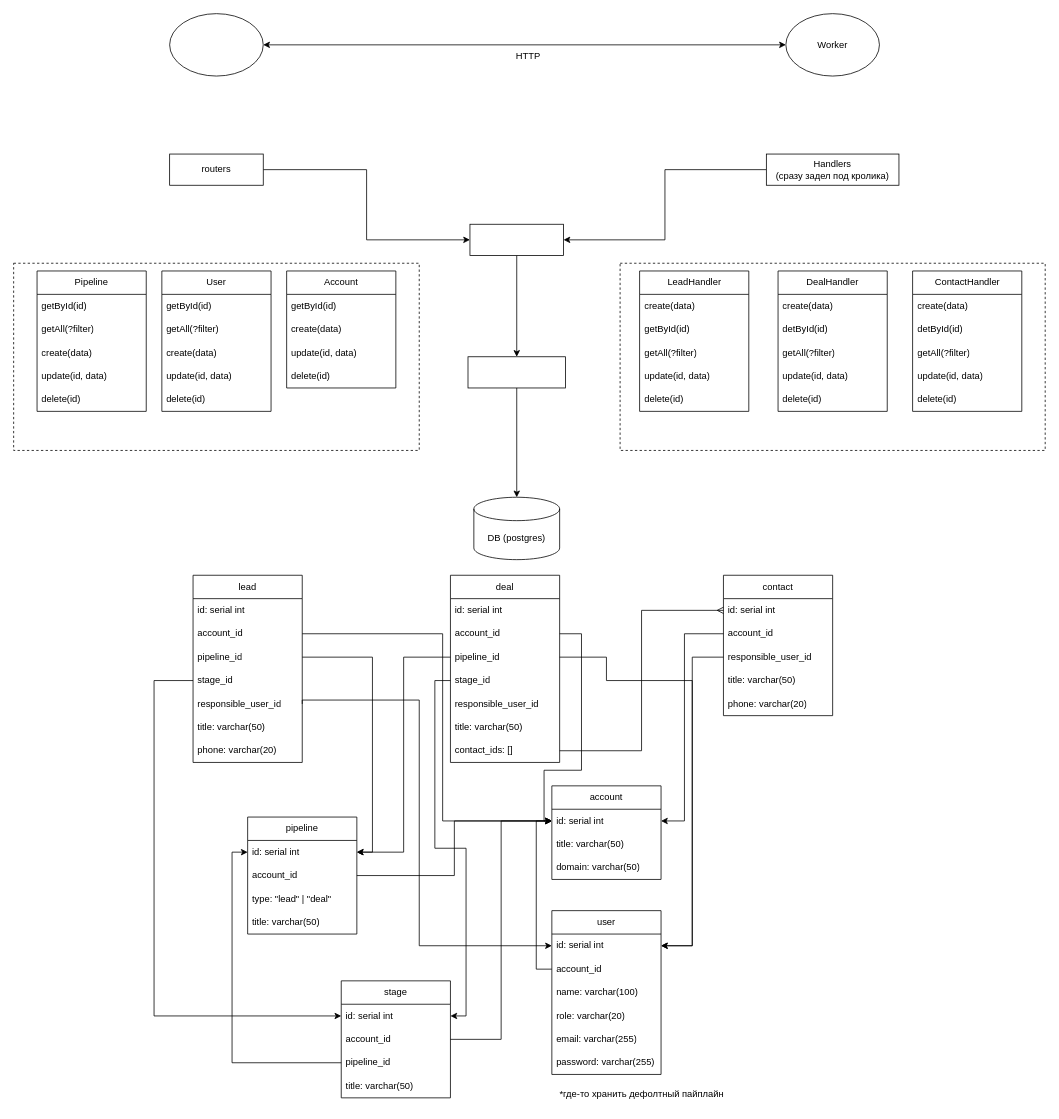
Some shapes in this 1059 by 1119 pixel diagram are drawn without their labels. Here are the shapes that lost their labels. From the top down, the centre of each, then its label:
At (x=216, y=44): "API".
At (x=516, y=239): "Services (в libs)".
At (x=516, y=372): "Repositories".
